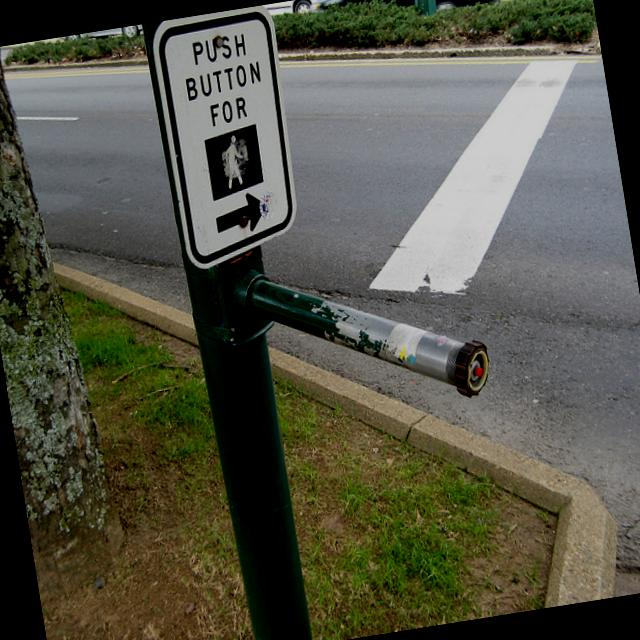Vehicle: (323, 0, 502, 18), (216, 0, 349, 24), (56, 24, 146, 52)
